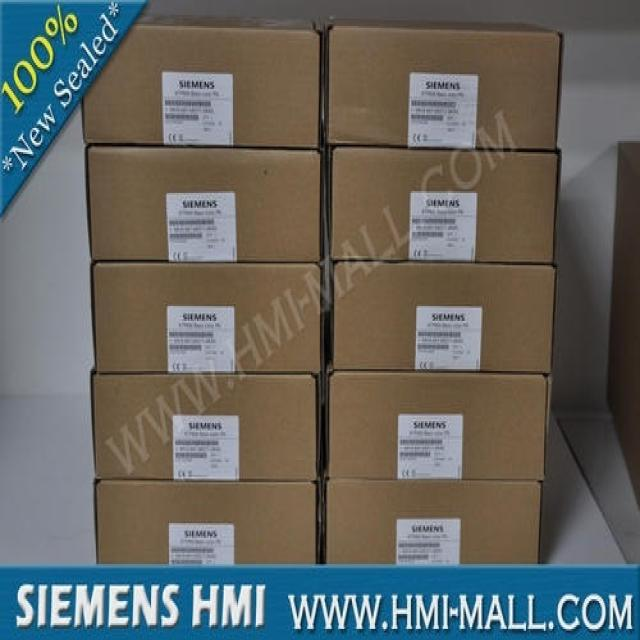box: (323, 20, 564, 150), (82, 17, 320, 147), (325, 147, 562, 265), (84, 147, 324, 263), (326, 364, 552, 480), (88, 263, 324, 373), (330, 263, 557, 375), (90, 373, 323, 480), (92, 480, 321, 566), (321, 479, 544, 566)
